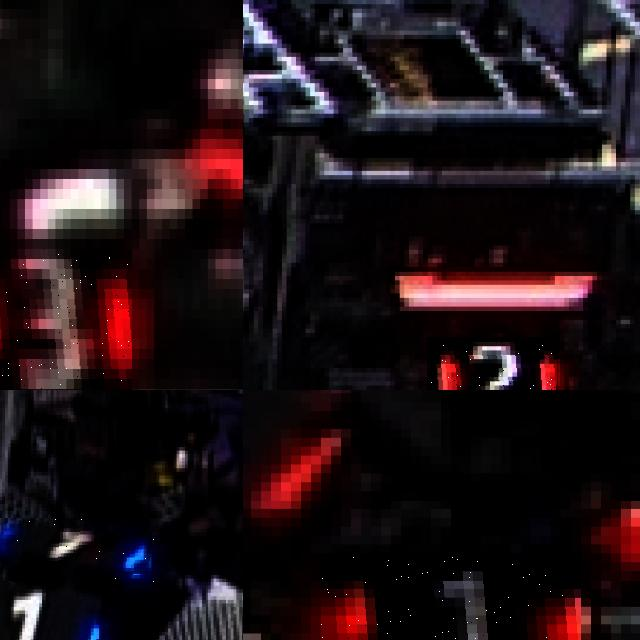B1: (0, 518, 156, 582), (0, 585, 99, 640)
R1: (321, 553, 581, 640)
R2: (427, 337, 559, 390)
R3: (0, 249, 131, 390)
